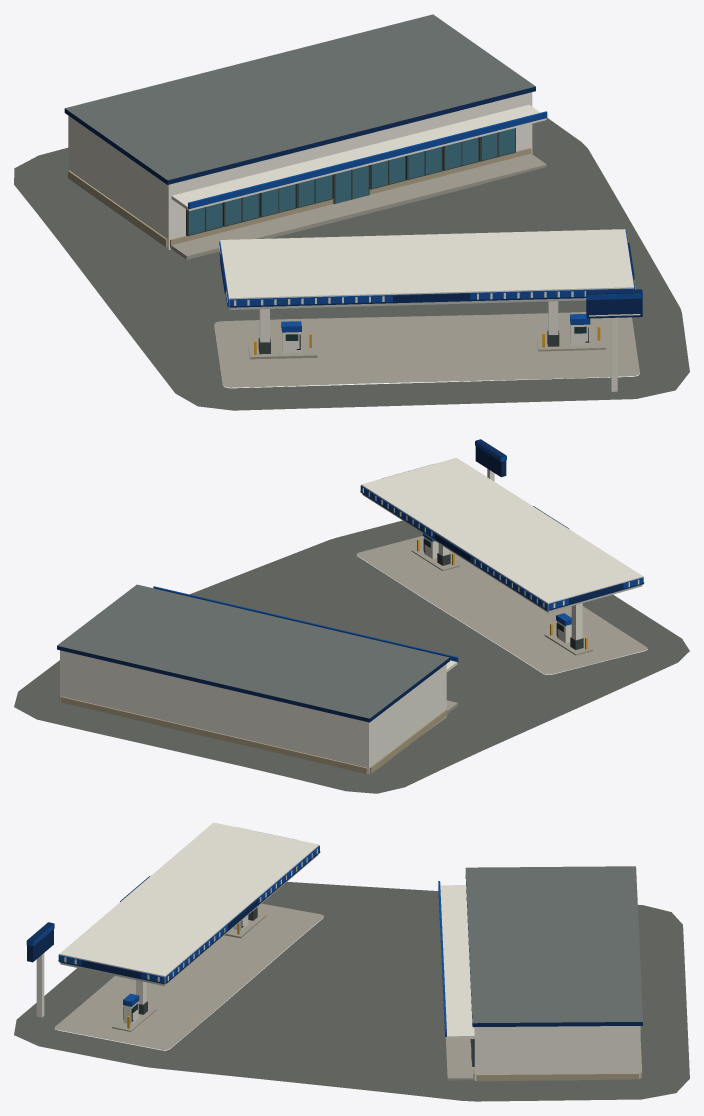
Rendered from StripesSunshine.glb.
The picture shows the model from 3 angles, top to bottom: view 1: azimuth 30°, elevation 25°; view 2: azimuth 150°, elevation 25°; view 3: azimuth 270°, elevation 25°; orthographic projection. The views are drawn at different scales.
Parts seen in each view (by area): view 1: StripesSunshine; view 2: StripesSunshine; view 3: StripesSunshine.
Boxes of the visible parts, box(x1,y1,x2,y2) form: StripesSunshine: box(14, 14, 689, 410); StripesSunshine: box(14, 439, 689, 793); StripesSunshine: box(14, 822, 689, 1101).
Bounding box in the file's own units: 34.99 × 6.09 × 43.23.
